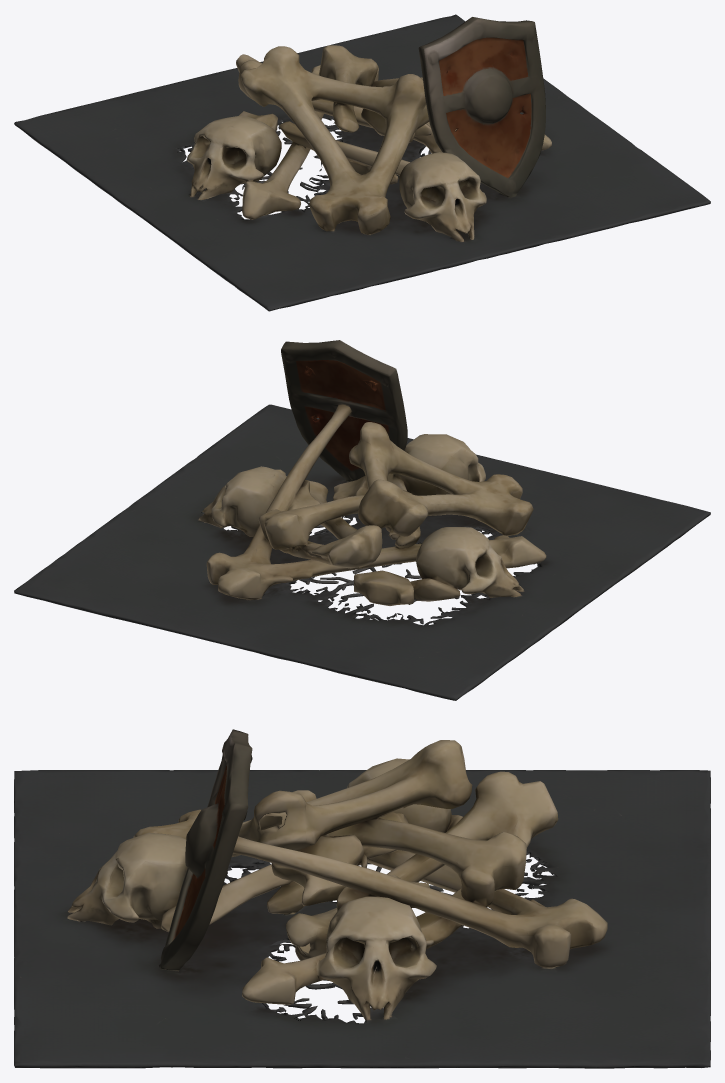
File: bone_pile_t1.glb
3 renders of one model, top to bottom at view 1: azimuth 30°, elevation 25°; view 2: azimuth 150°, elevation 25°; view 3: azimuth 270°, elevation 25°, orthographic. The views are drawn at different scales.
Parts seen in each view (by area): view 1: geometry_0; view 2: geometry_0; view 3: geometry_0.
Part boxes in pixels (x1,y1,x2,y2): geometry_0: (14,14,710,311); geometry_0: (14,340,710,700); geometry_0: (14,729,710,1068).
Size of the model in its own units: 1 by 0.3559 by 1.
1 material, 1 textured.
